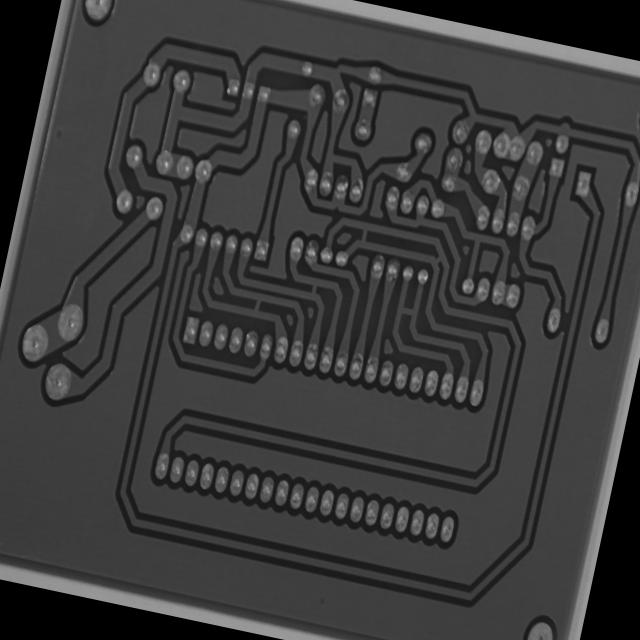short: (391, 296, 423, 331), (300, 271, 329, 306), (351, 216, 379, 252), (244, 286, 272, 322), (426, 247, 448, 274)
